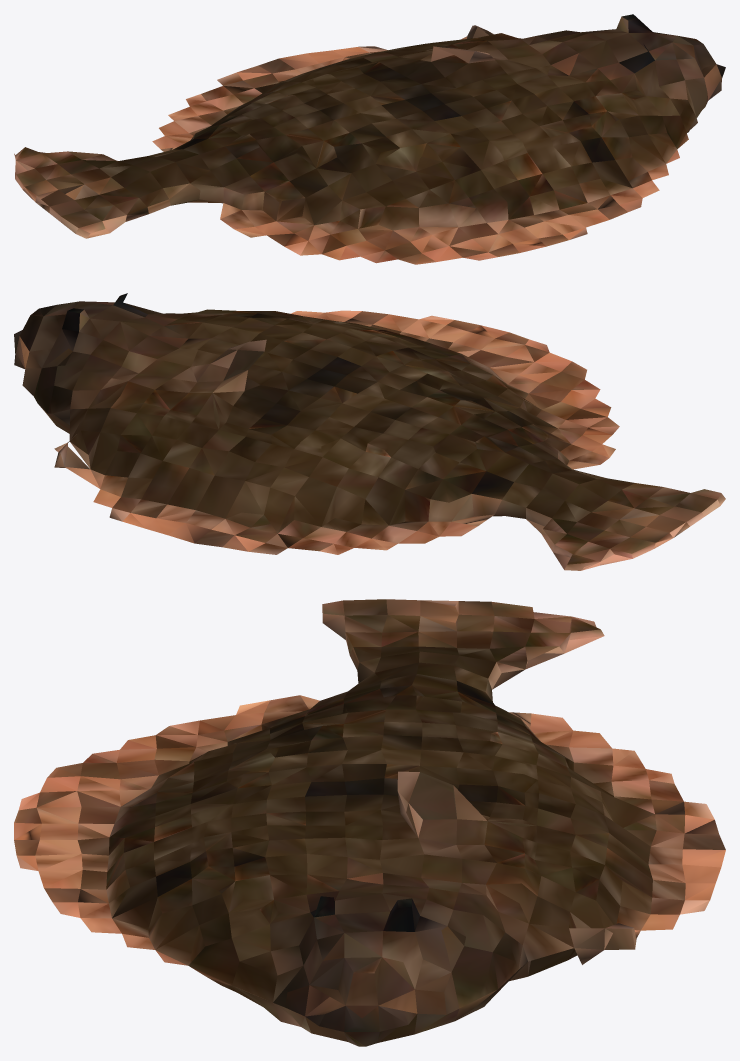
The model's file is flounder.glb.
3 views of the same model, one above another, from view 1: azimuth 30°, elevation 25°; view 2: azimuth 150°, elevation 25°; view 3: azimuth 270°, elevation 25° (orthographic). The views are drawn at different scales.
Bounding box in the file's own units: 0.9894 × 0.2052 × 0.7001.
1 material, 1 textured.
